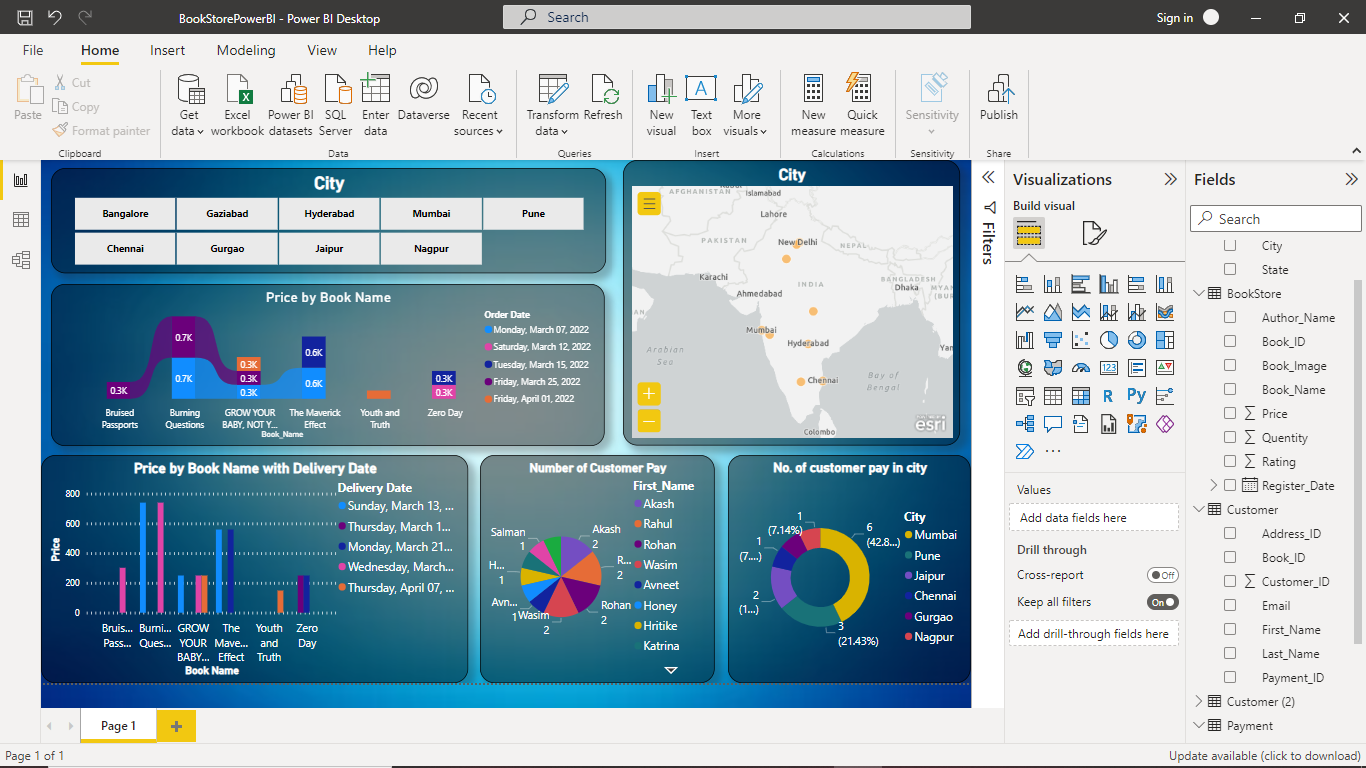

Layout of this report page (visuals, bound fields, positions):
{"tool":"powerbi","page":{"name":"Page 1","canvas":[1280,720],"ordinal":0},"visuals":[{"type":"lineClusteredColumnComboChart","title":"Price by Book Name with Delivery Date","fields":{"Category":["BookStore.Book_Name"],"Y":["BookStore.Price"],"Series":["Payment.Delivery_Date"]},"box":[0,406.5,587.9,314.1],"z":0},{"type":"pieChart","title":"Number of Customer Pay","fields":{"Category":["Customer.First_Name"],"Y":["Customer.Payment_ID"]},"box":[604.7,406.5,322.5,314.1],"z":1000},{"type":"slicer","title":"City","fields":{"Values":["Address.City"]},"box":[13.8,11,763.9,144.5],"z":2000},{"type":"donutChart","title":"No. of customer pay in city","fields":{"Category":["Address.City"],"Y":["Customer.Payment_ID"]},"box":[945.7,406.5,334.3,314.1],"z":3000},{"type":"esriVisual","fields":{"Location":["Address.City"]},"box":[801.3,0,463.6,393.1],"z":4000},{"type":"ribbonChart","title":"Price by Book Name ","fields":{"Category":["BookStore.Book_Name"],"Y":["BookStore.Price"],"Series":["Payment.Order_Date"]},"box":[13.8,170.7,762.5,223],"z":5000}]}

Visuals, with their boxes on the page's 1280x720 design canvas (x1, y1, x2, y2). These are canvas units, not pixel positions in the 1366x768 screenshot, which may show the page scaled, cropped or inside an application window:
"Price by Book Name with Delivery Date" lineClusteredColumnComboChart: bbox=(0, 406, 588, 721)
"Number of Customer Pay" pieChart: bbox=(605, 406, 927, 721)
"City" slicer: bbox=(14, 11, 778, 156)
"No. of customer pay in city" donutChart: bbox=(946, 406, 1280, 721)
esriVisual - Address.City: bbox=(801, 0, 1265, 393)
"Price by Book Name " ribbonChart: bbox=(14, 171, 776, 394)
